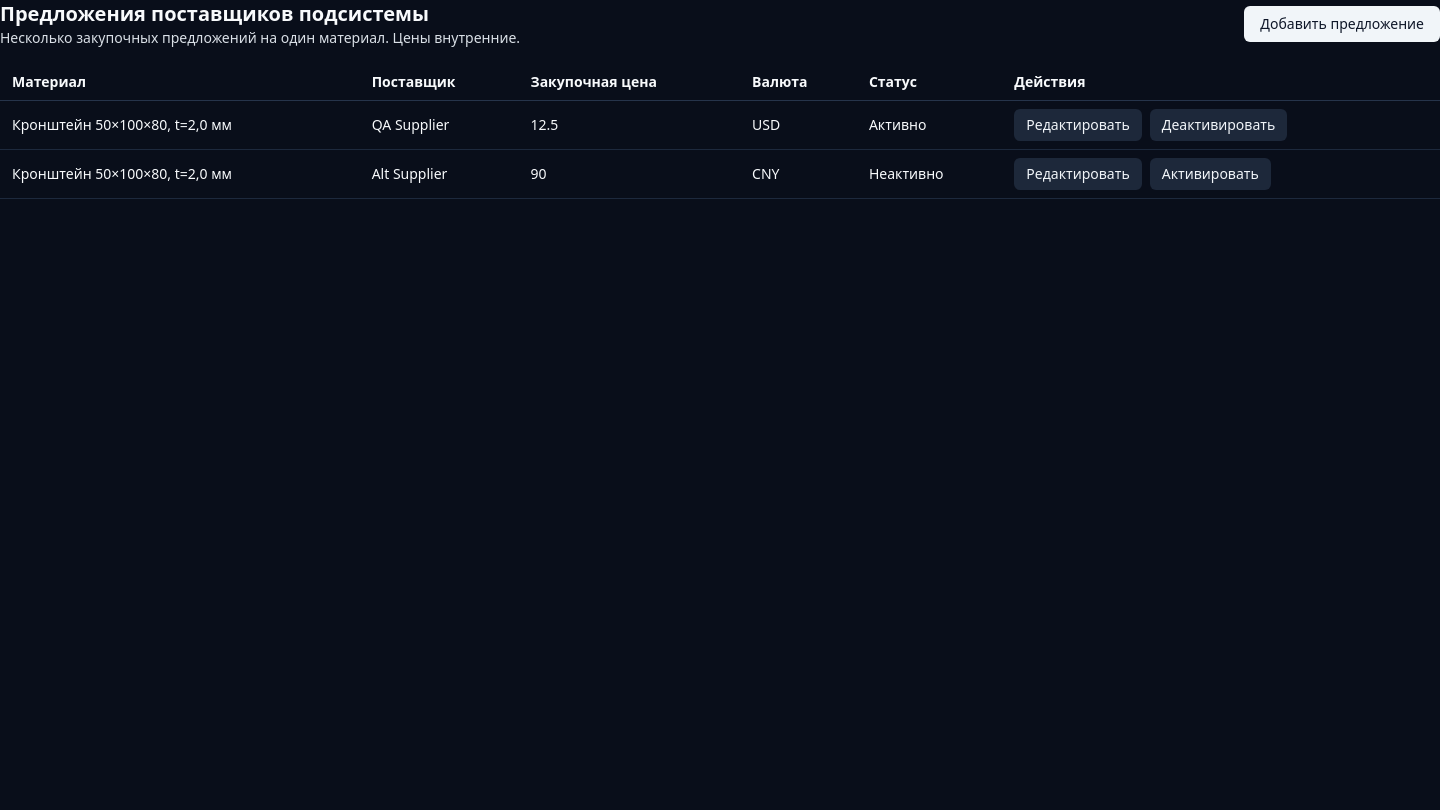
FacadeOffersPage › lets an authorized user open the create form
Click the button "Добавить предложение".
click(1342, 24)  # box [1244,6,1439,42]
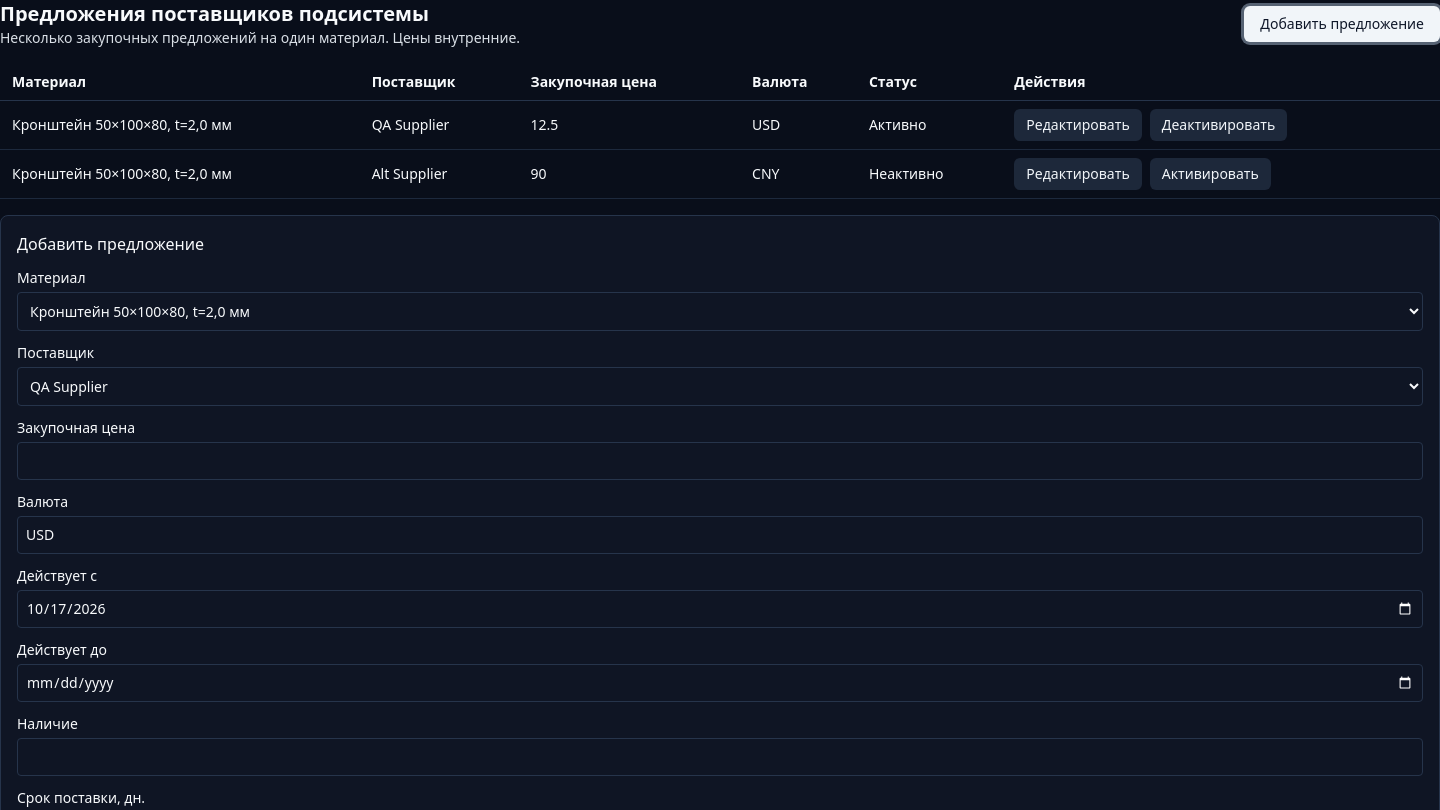
Result: the field labelled "Закупочная цена" is shown at [17,442,1423,480]
